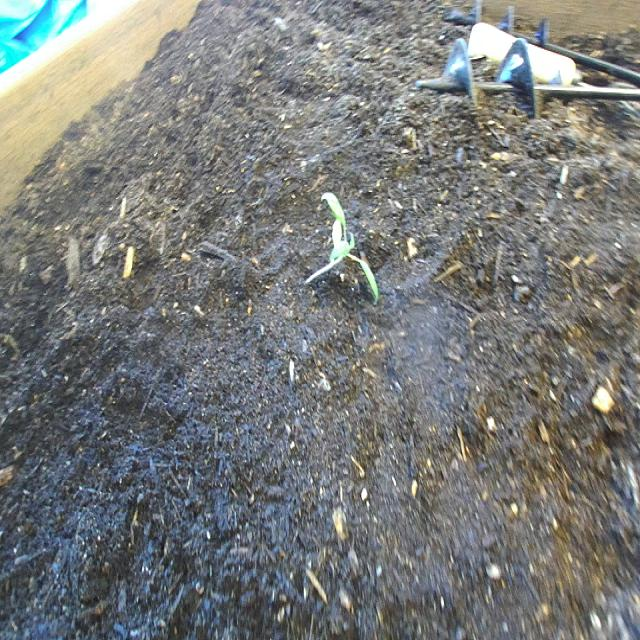Unhealthy: (300, 169, 387, 323)
